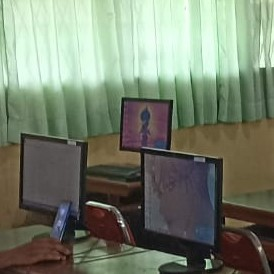monitor: (139, 146, 223, 266), (18, 132, 88, 229), (119, 97, 173, 153)
